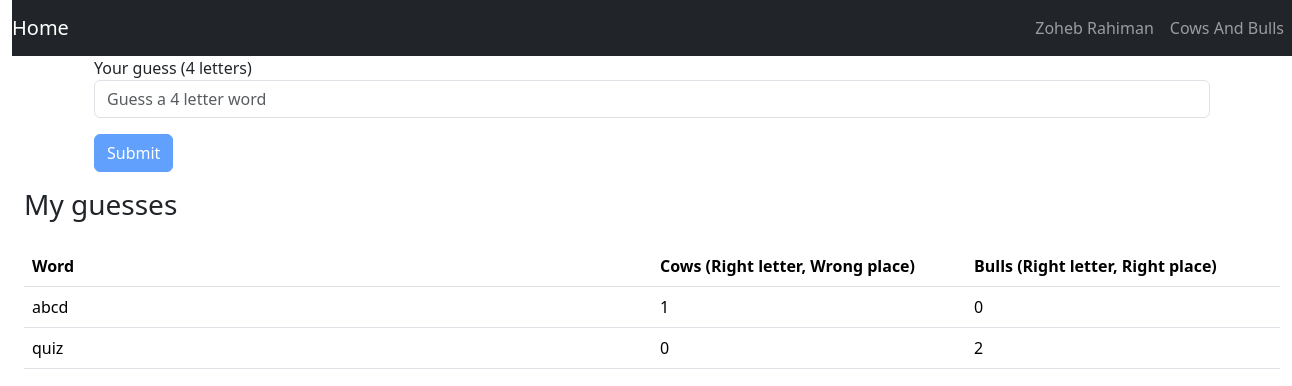
it: validation › marks a four-letter guess valid and enables submit
Type "gold" into the field labelled "Your guess (4 letters)" at (652,99), box [94,80,1210,118]
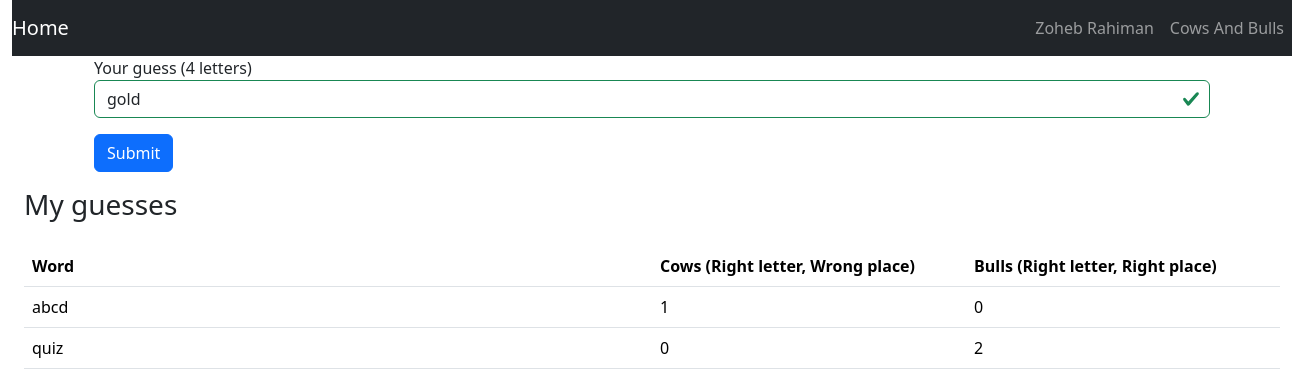
Check: the button "Submit" is enabled, box [94,134,173,172]
